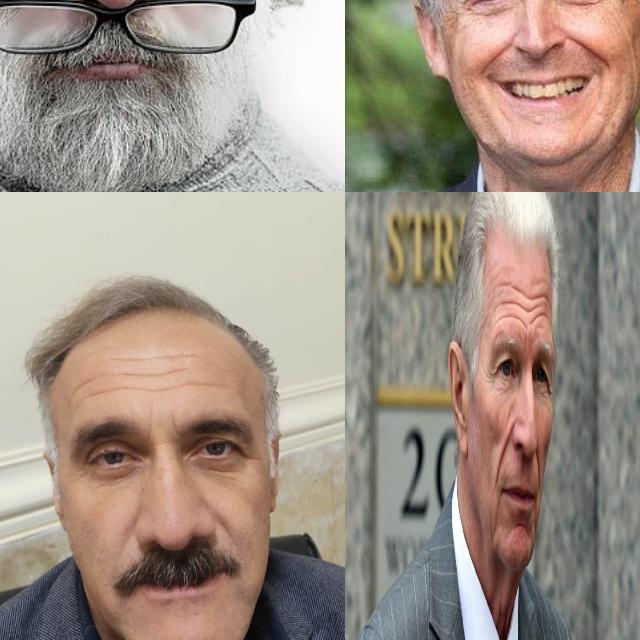chin: (515, 513, 528, 537)
crows_feet: (242, 444, 266, 468), (544, 366, 554, 407), (487, 362, 496, 389)
forehead: (124, 349, 180, 381), (69, 366, 117, 402), (128, 374, 178, 402), (189, 368, 233, 394), (494, 282, 514, 322), (516, 279, 530, 332), (532, 288, 549, 328)
frown_line: (140, 411, 156, 437), (166, 414, 184, 436)
gummy_smile: (472, 38, 516, 72), (570, 36, 612, 66), (210, 514, 242, 542), (498, 426, 512, 477), (534, 448, 541, 490)
